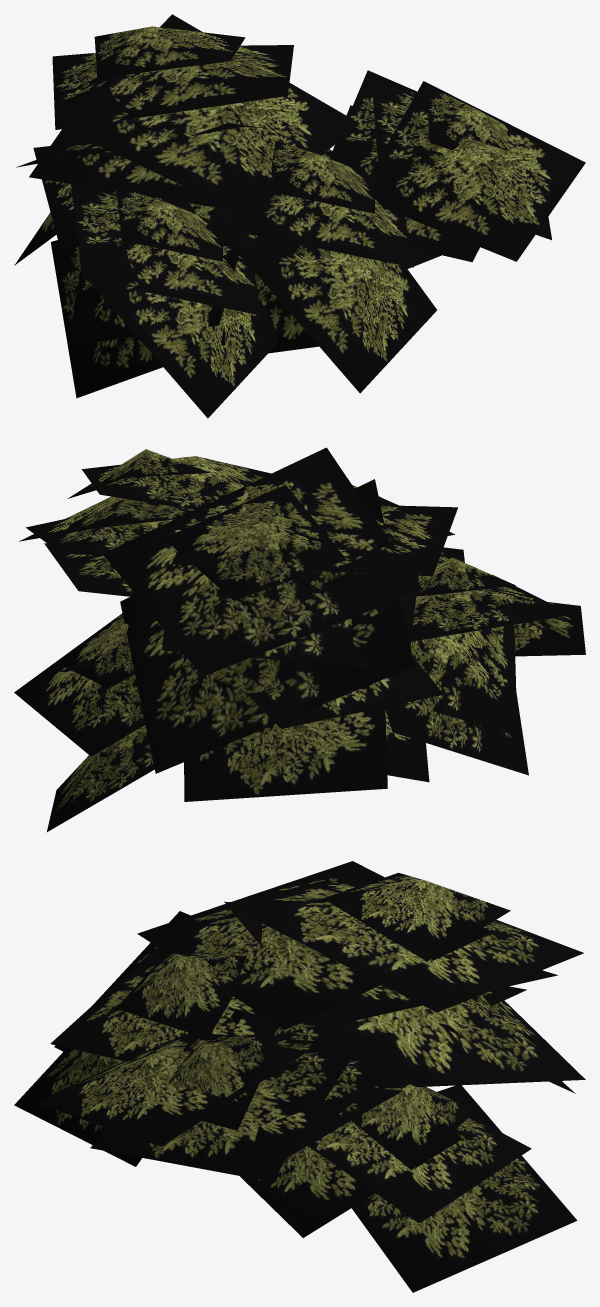
Rendered from nder55.obj.
3 views of the same model, one above another, from view 1: azimuth 30°, elevation 25°; view 2: azimuth 150°, elevation 25°; view 3: azimuth 270°, elevation 25° (orthographic). The views are drawn at different scales.
Visible parts, largest first — view 1: nder55; view 2: nder55; view 3: nder55.
Part boxes in pixels (left/top/right/bottom): nder55: left=14, top=14, right=585, bottom=418; nder55: left=14, top=447, right=585, bottom=831; nder55: left=14, top=861, right=585, bottom=1292.
Bounding box in the file's own units: 206 × 122 × 203.
